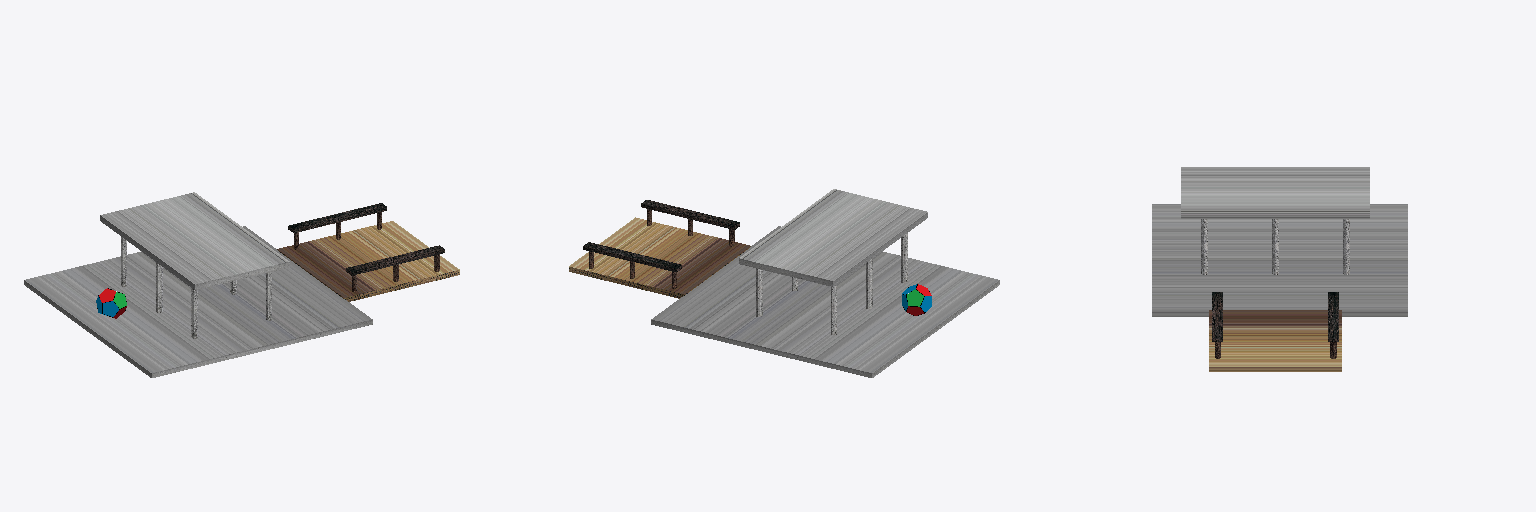
3 renders of one model, left to right at view 1: azimuth 30°, elevation 25°; view 2: azimuth 150°, elevation 25°; view 3: azimuth 270°, elevation 25°, orthographic.
Visible parts, largest first — view 1: mesh01; view 2: mesh01; view 3: mesh01.
Part boxes in pixels (x1,y1,x2,y2): mesh01: (24,192,459,377); mesh01: (569,189,999,377); mesh01: (1152,167,1407,371).
Size of the model in its own units: 409 by 80.77 by 269.
Materials: 1 (1 with a texture image).